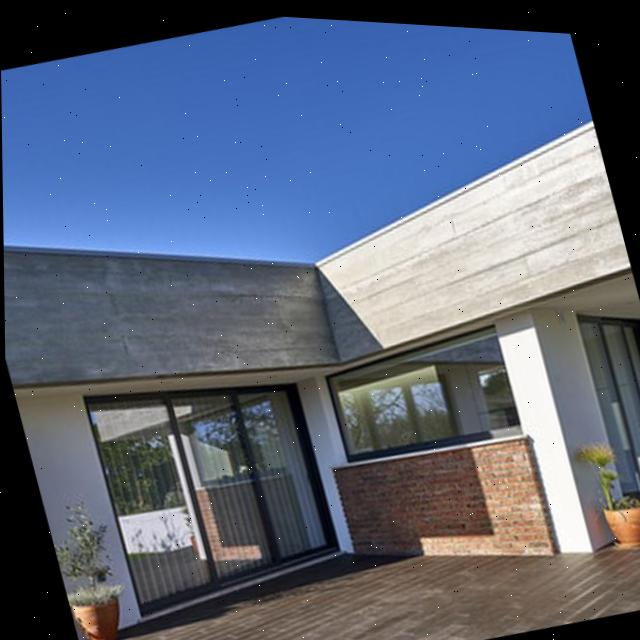building: (1, 89, 640, 640)
